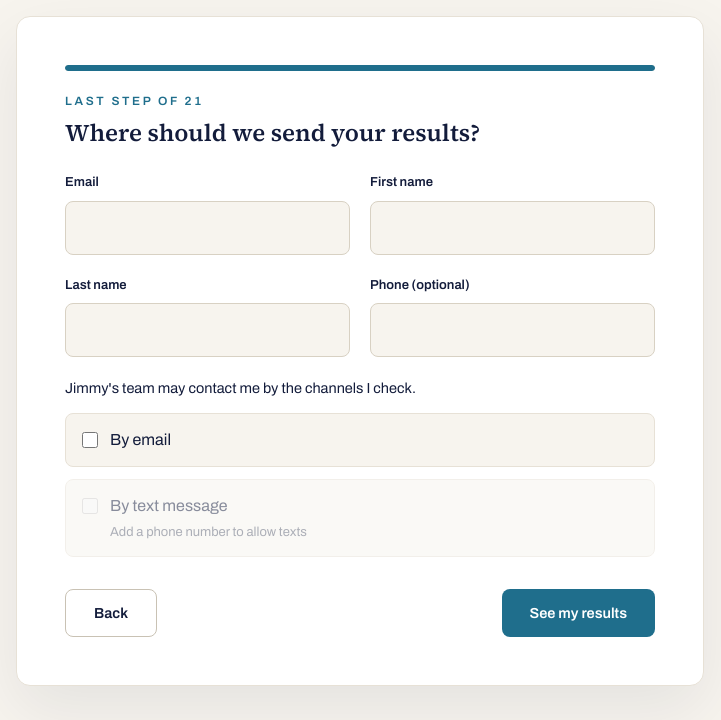
Test: AssessmentQuizClient results › reports missing information instead of a score
The image size is (721, 720).
Check: the text "Last step of 21" is shown, box [65,94,204,108]
In the field labelled "Email": (208, 228) [65,201,350,255], type "vet@example.com"
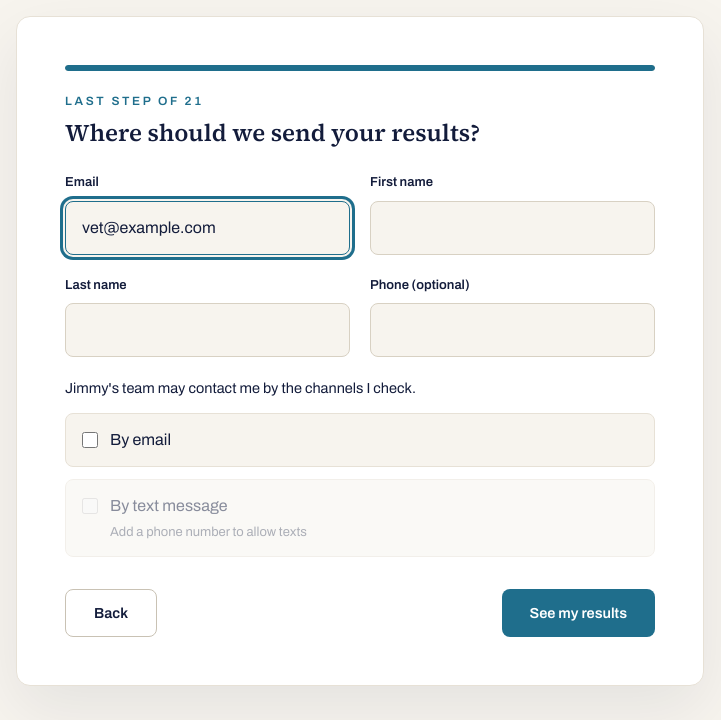
In the field labelled "First name": (512, 228) [370,201,655,255], type "Pat"
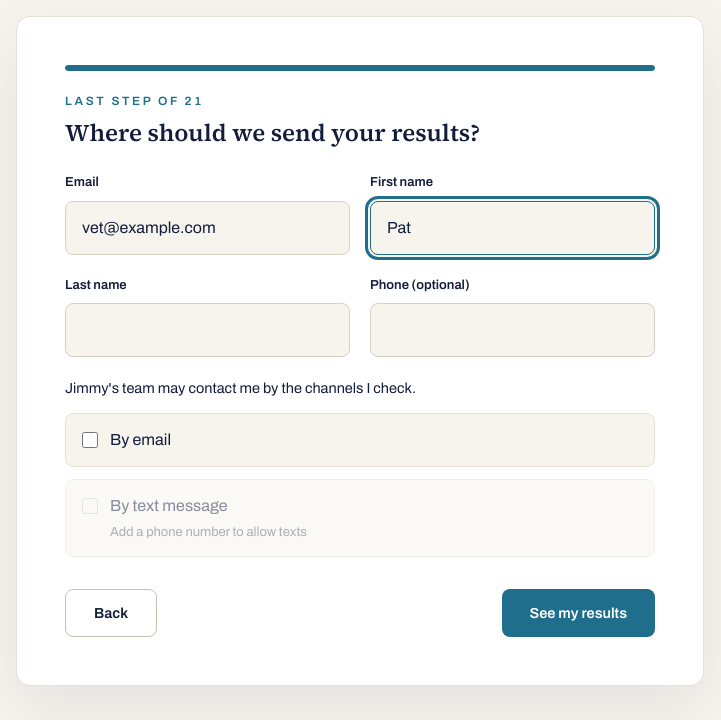
In the field labelled "Last name": (208, 330) [65,303,350,357], type "Rivera"
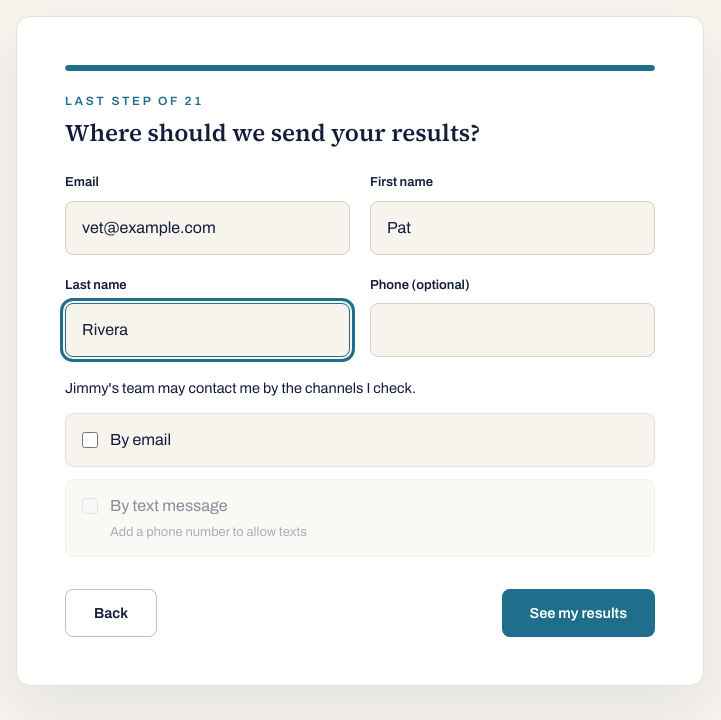
Click the button "See my results": (578, 613) [502,589,655,637]
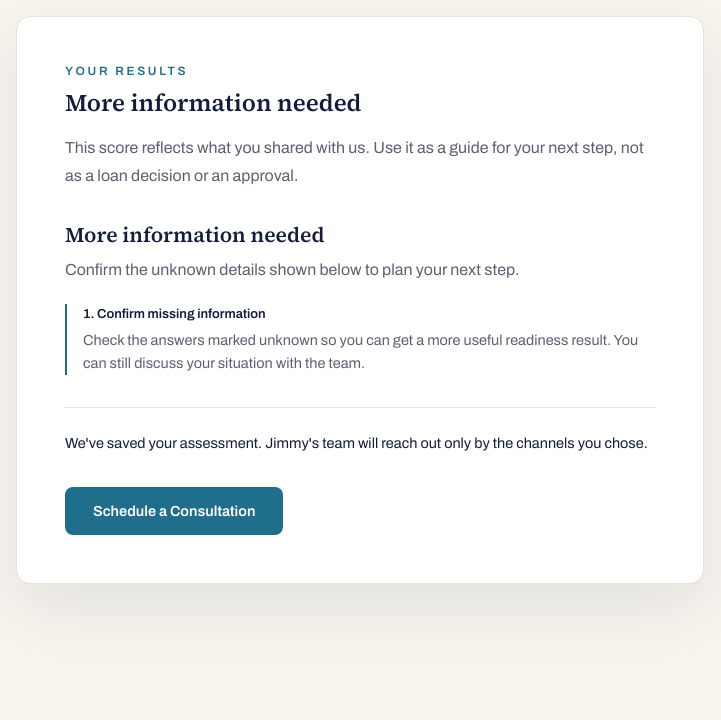
Check: the number of headings "More information needed" is 2, box [65,86,362,119]; [65,220,324,249]
Check: the text "1. Confirm missing information" is shown, box [83,307,266,321]
